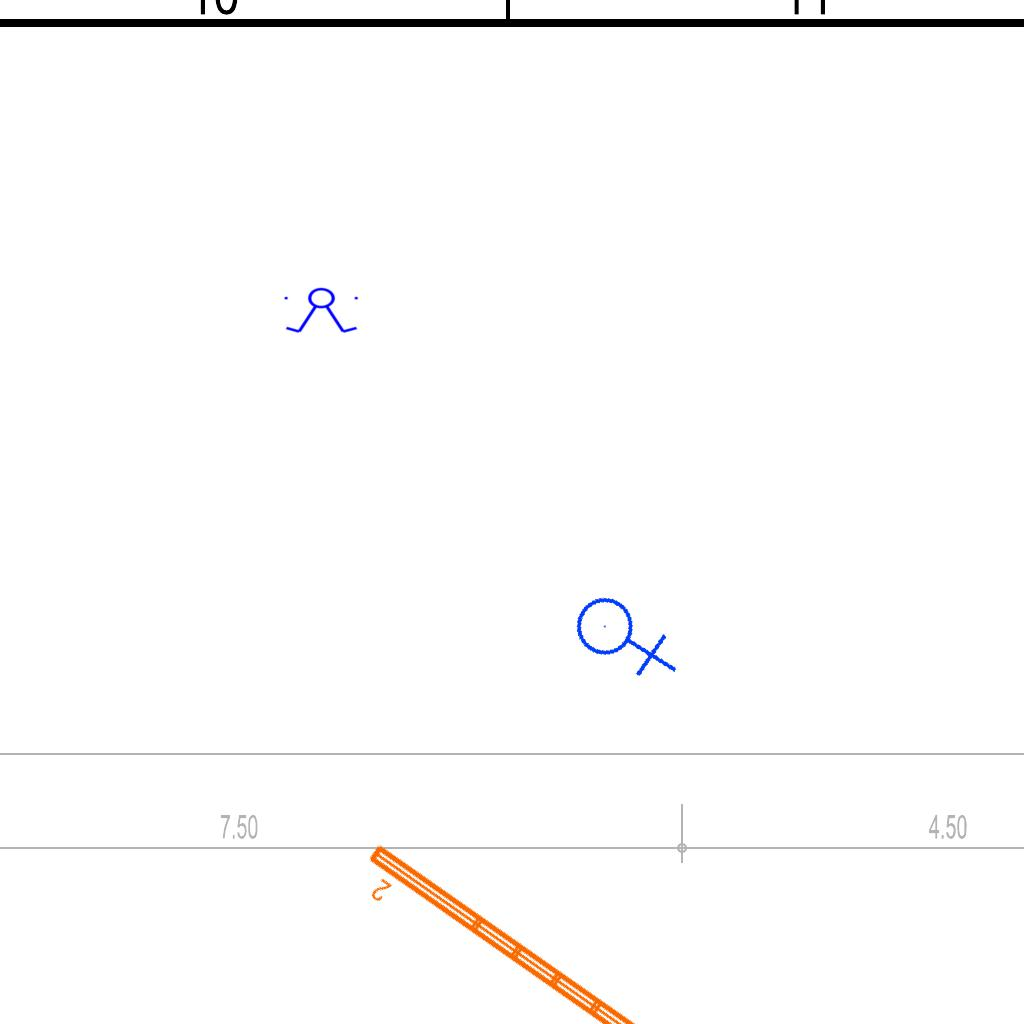Ambulanz_Pendelleuchte_LED: (346, 837, 697, 1024)
Elektroanschluss_allgemein_230V_Geraeteanschlussdose_230V: (566, 574, 683, 694)
Serienschalter: (280, 287, 364, 335)
